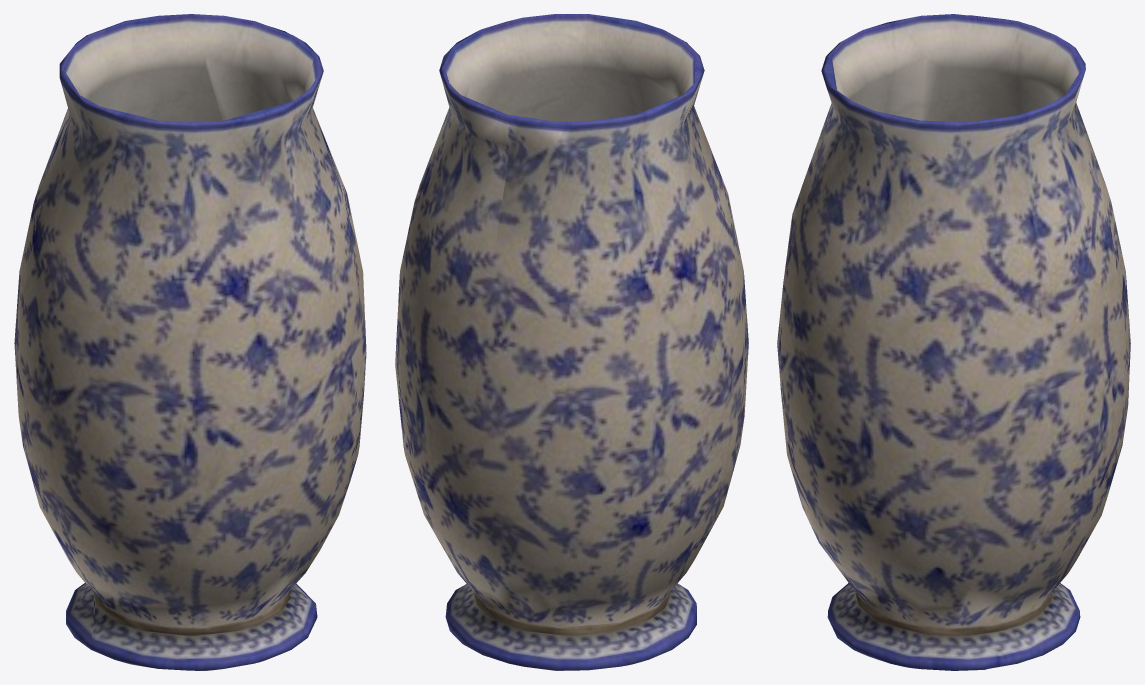
3 views of the same model, side by side, from view 1: azimuth 30°, elevation 25°; view 2: azimuth 150°, elevation 25°; view 3: azimuth 270°, elevation 25° (orthographic).
Visible parts, largest first — view 1: antique_ceramic_vase_01; view 2: antique_ceramic_vase_01; view 3: antique_ceramic_vase_01.
Boxes of the visible parts, x1=… form: antique_ceramic_vase_01: x1=14, y1=14, x2=366, y2=670; antique_ceramic_vase_01: x1=395, y1=14, x2=748, y2=670; antique_ceramic_vase_01: x1=777, y1=14, x2=1130, y2=670.
Bounding box in the file's own units: 0.2534 × 0.4396 × 0.255.
1 material, 1 textured.
